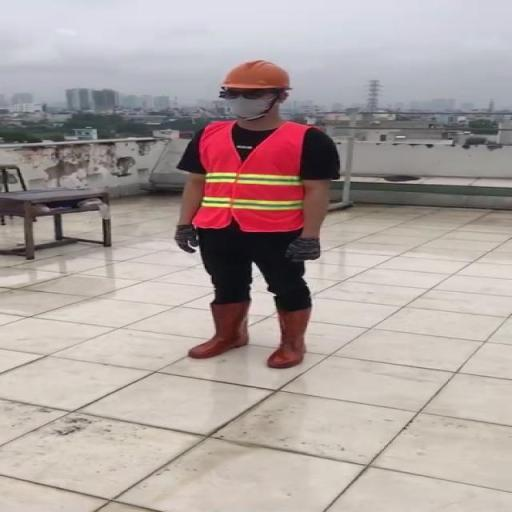Boots: (176, 298, 255, 361), (268, 304, 314, 372)
Helmet: (223, 57, 298, 92)
Person: (162, 54, 346, 370)
